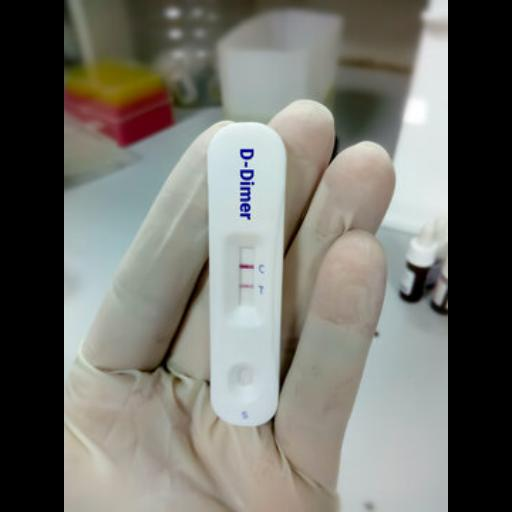Pos: (208, 126, 280, 422)
